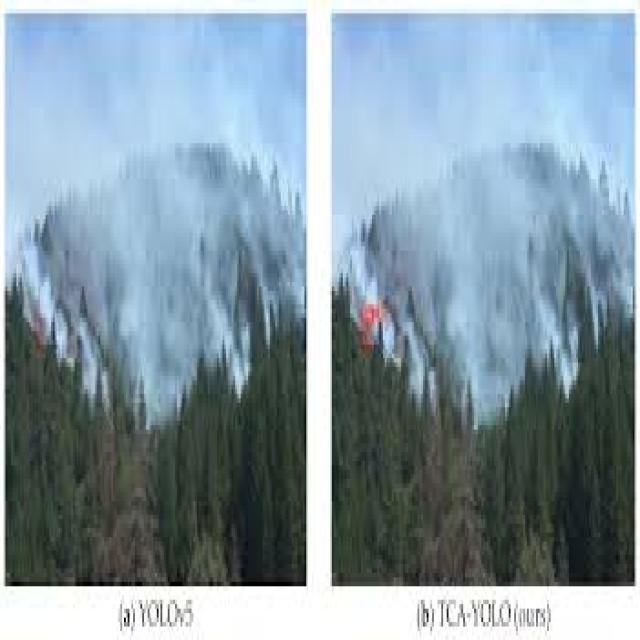Fire: (355, 291, 388, 362)
Smoke: (40, 126, 305, 432), (333, 21, 542, 300), (333, 124, 636, 286), (48, 52, 194, 345), (437, 14, 526, 378), (182, 59, 300, 258)
